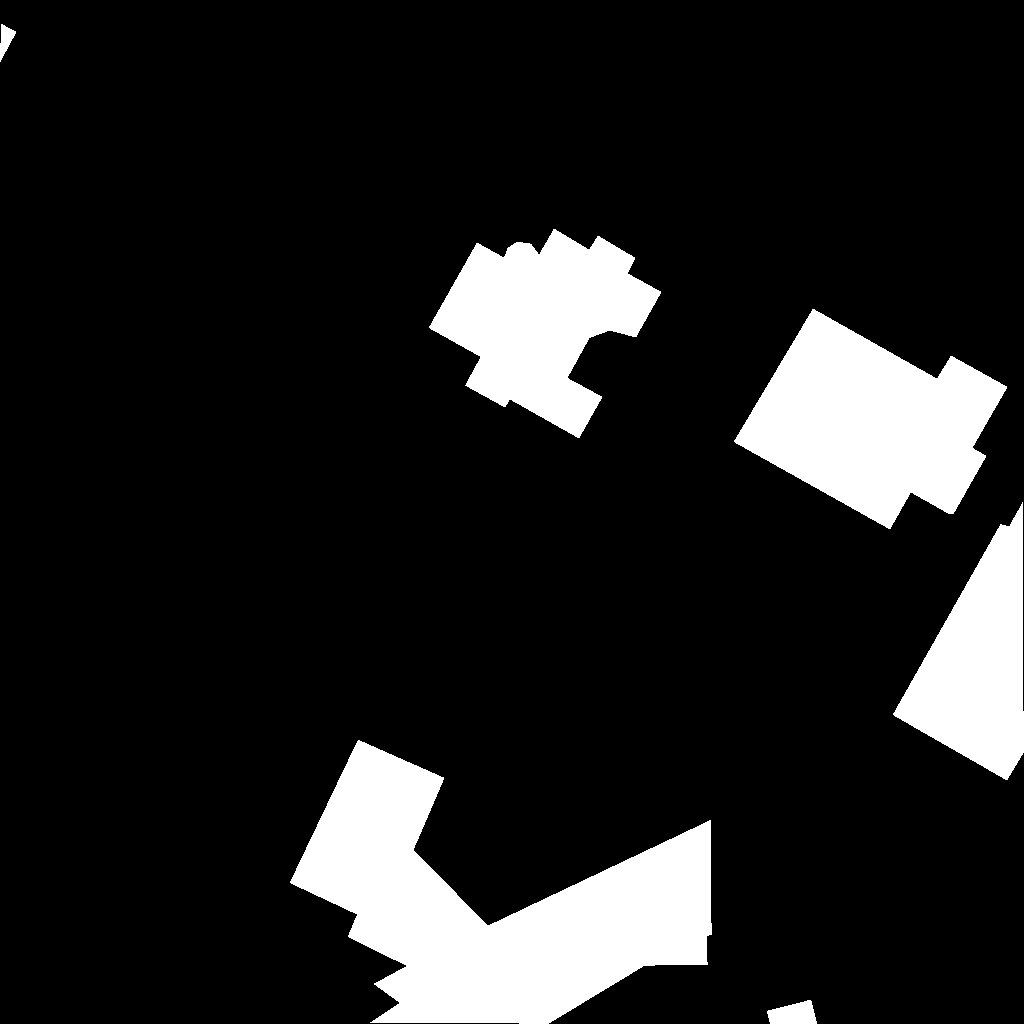building: (290, 740, 712, 1024), (734, 309, 1008, 530), (429, 229, 662, 439), (893, 502, 1024, 781), (767, 1000, 818, 1024), (0, 24, 17, 63)
